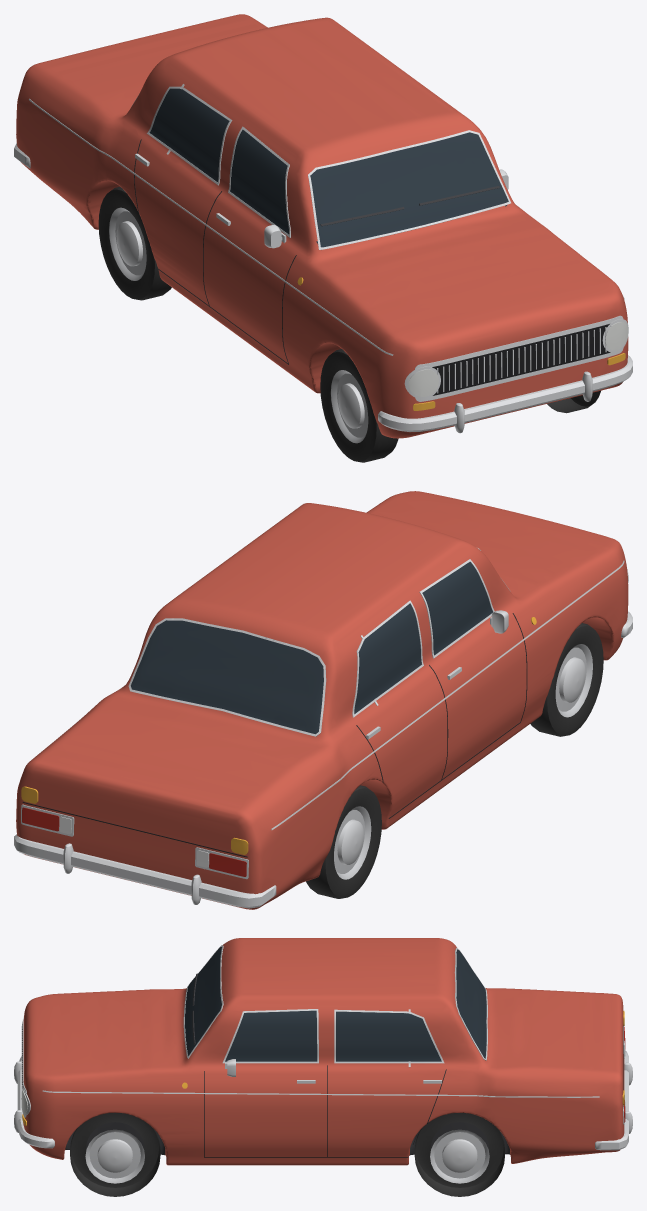
File: moskvich412.glb
The picture shows the model from 3 angles, top to bottom: view 1: azimuth 30°, elevation 25°; view 2: azimuth 150°, elevation 25°; view 3: azimuth 270°, elevation 25°; orthographic projection. The views are drawn at different scales.
Visible parts, largest first — view 1: paint, glass, trim, wheel_fr, wheel_rr, headlights; view 2: paint, glass, trim, wheel_fr, wheel_rr, taillights; view 3: paint, glass, trim, wheel_fl, wheel_rl.
Boxes of the visible parts, left/top/right/bottom form: paint: left=16, top=14, right=628, bottom=438; glass: left=149, top=88, right=508, bottom=247; trim: left=14, top=84, right=632, bottom=433; wheel_fr: left=320, top=349, right=398, bottom=462; wheel_rr: left=98, top=186, right=171, bottom=300; headlights: left=408, top=322, right=628, bottom=396; paint: left=16, top=491, right=628, bottom=909; glass: left=130, top=562, right=492, bottom=734; trim: left=14, top=548, right=632, bottom=908; wheel_fr: left=530, top=623, right=603, bottom=736; wheel_rr: left=306, top=785, right=381, bottom=898; taillights: left=22, top=807, right=246, bottom=876; paint: left=23, top=938, right=624, bottom=1165; glass: left=185, top=947, right=486, bottom=1061; trim: left=14, top=945, right=632, bottom=1157; wheel_fl: left=70, top=1112, right=160, bottom=1196; wheel_rl: left=414, top=1113, right=504, bottom=1196.
Size of the model in its own units: 1.55 by 1.47 by 4.31.
